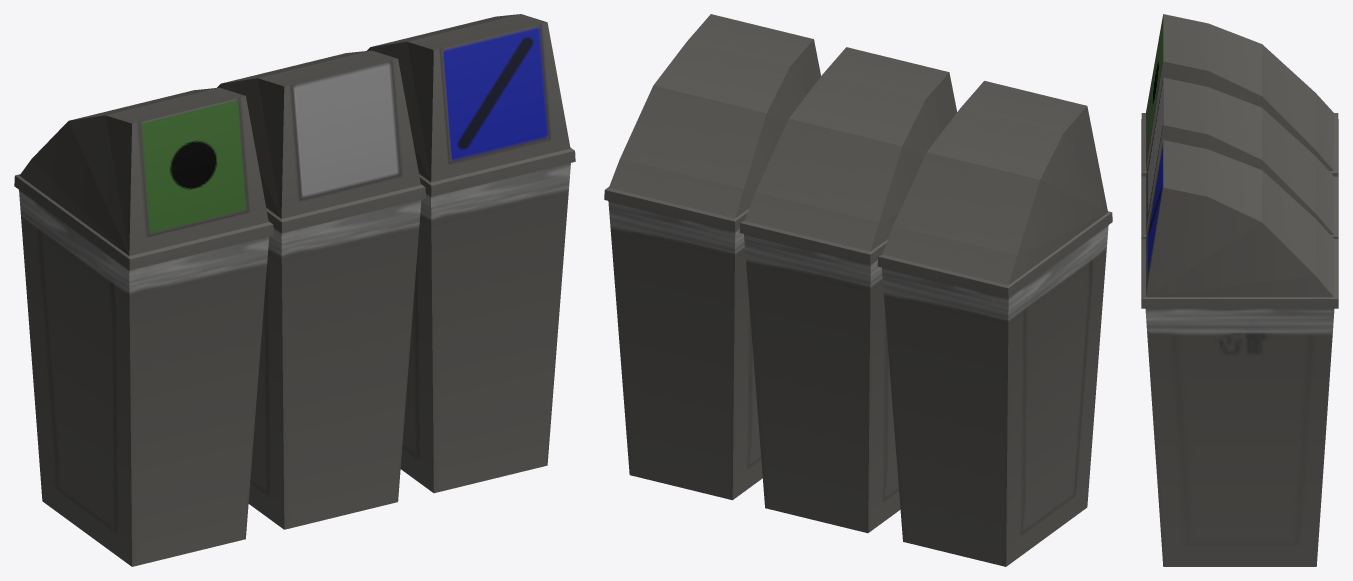
Rendered from bin.dae.
3 views of the same model, side by side, from view 1: azimuth 30°, elevation 25°; view 2: azimuth 150°, elevation 25°; view 3: azimuth 270°, elevation 25° (orthographic). The views are drawn at different scales.
Visible parts, largest first — view 1: Cube; view 2: Cube; view 3: Cube.
Boxes of the visible parts, x1=… form: Cube: x1=14, y1=14, x2=575, y2=566; Cube: x1=604, y1=14, x2=1112, y2=566; Cube: x1=1141, y1=14, x2=1338, y2=566.
Size of the model in its own units: 1.03 by 0.4632 by 0.9828.
Materials: 1 (1 with a texture image).
